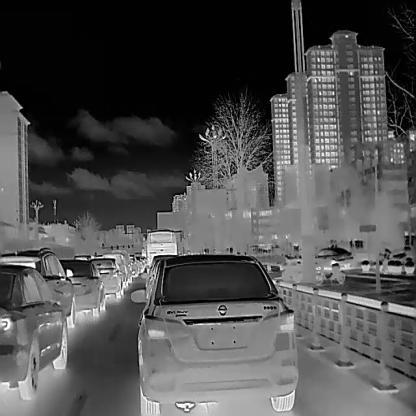car: (130, 248, 301, 415), (0, 262, 68, 400), (0, 245, 77, 328), (56, 257, 106, 317), (88, 255, 124, 298), (145, 228, 177, 268), (314, 246, 354, 271)
